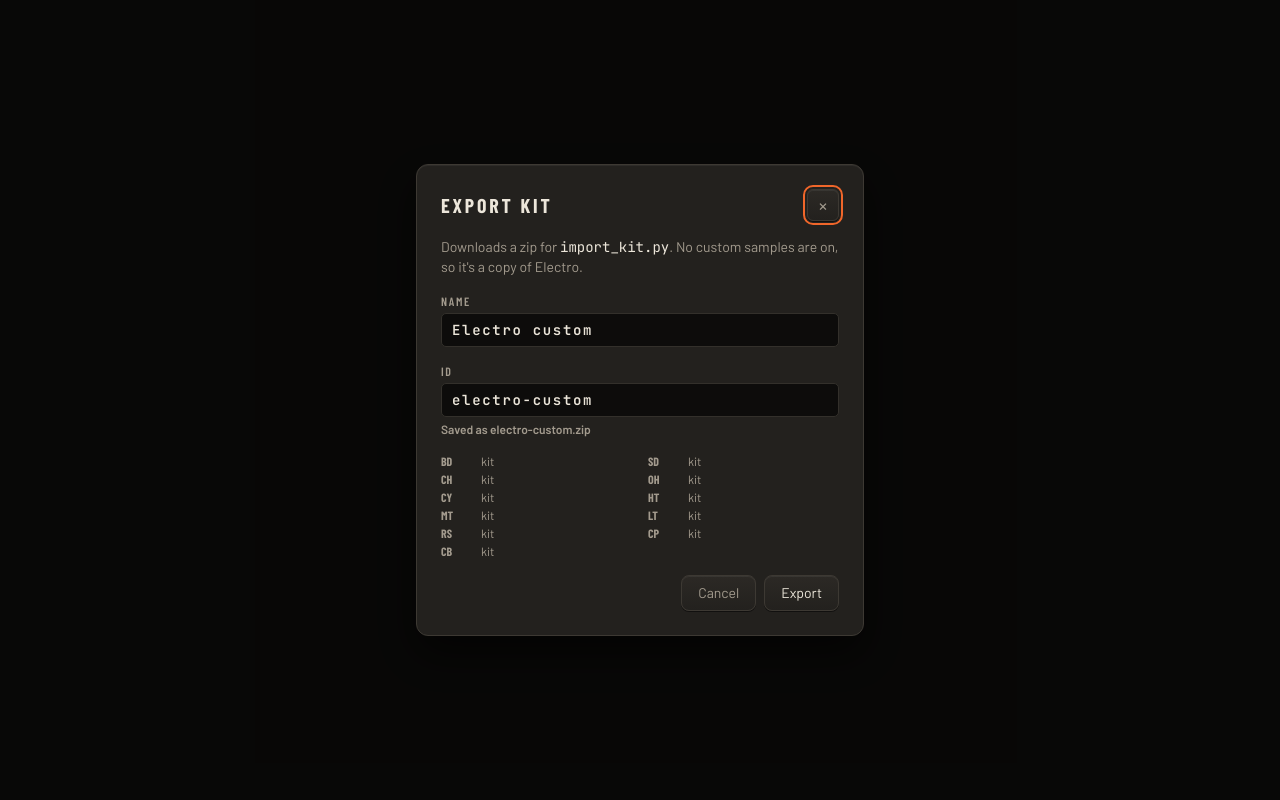
it: ExportKitDialog › shows a failure and stays open
Click the button "Export" at coordinates (802, 593), box [764,575,839,611]
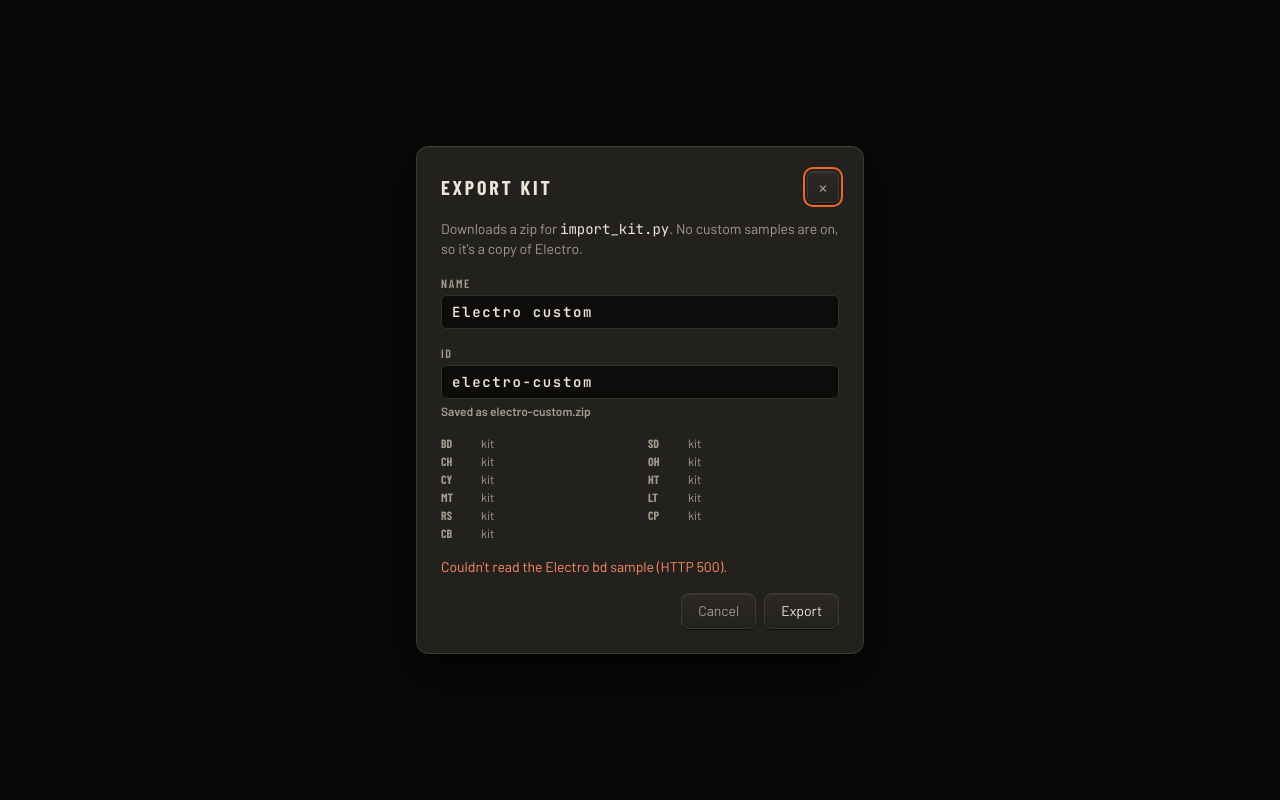
expect the button "Export" is enabled: met, box [764,593,839,629]
expect the message shows "Couldn't read the Electro bd sample": met, box [441,558,727,575]
